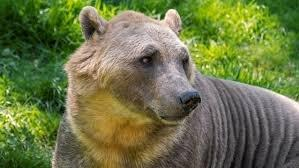bear: (53, 6, 299, 168)
